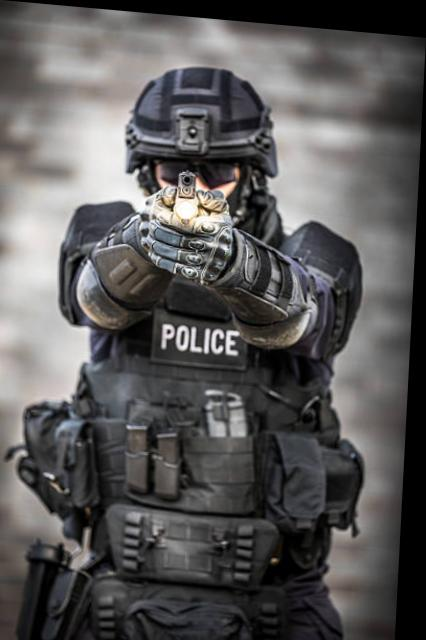other: (44, 59, 384, 640)
